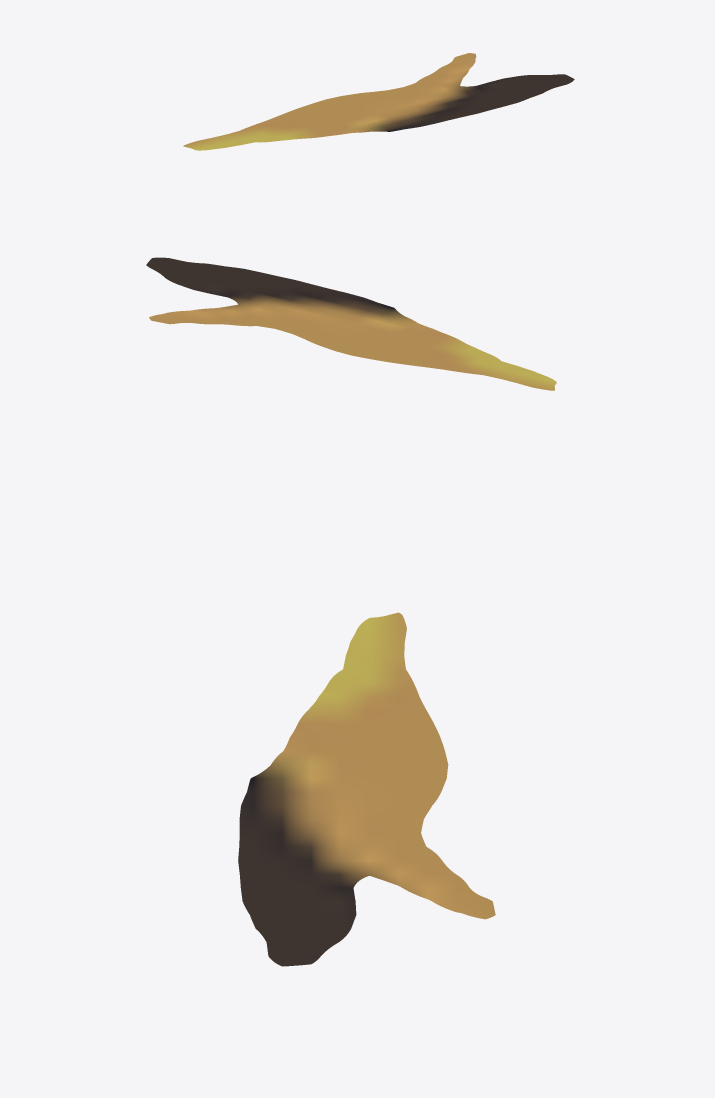
File: HuBian_NighYezi3_fbx.FBX
3 views of the same model, one above another, from view 1: azimuth 30°, elevation 25°; view 2: azimuth 150°, elevation 25°; view 3: azimuth 270°, elevation 25° (orthographic). The views are drawn at different scales.
Visible parts, largest first — view 1: Object068; view 2: Object068; view 3: Object068.
Boxes of the visible parts, x1,y1,x2,y2 form: Object068: [183, 53, 574, 150]; Object068: [146, 257, 556, 390]; Object068: [238, 612, 495, 966].
Size of the model in its own units: 0.305 by 5.73e-09 by 0.131.
Materials: 1 (1 with a texture image).
